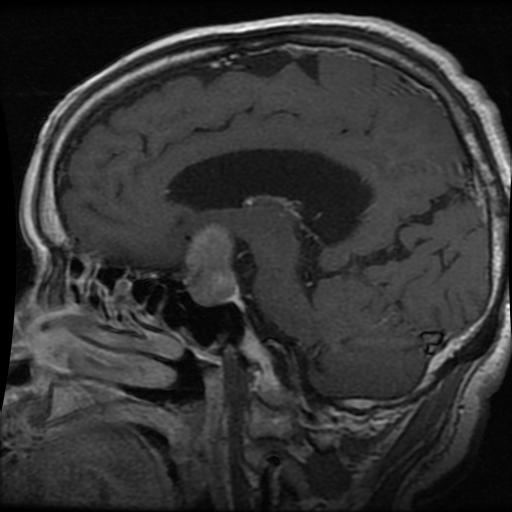Pituirity_tumour: (183, 221, 238, 303)
